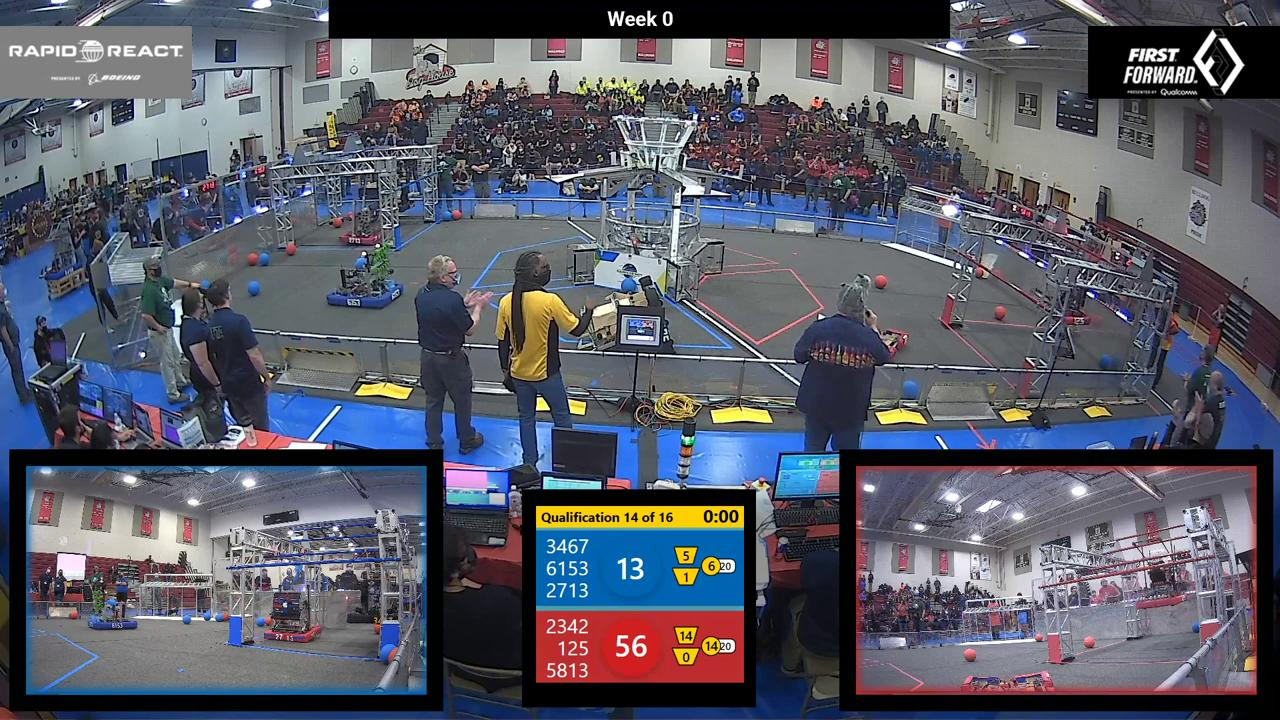robot: (324, 251, 403, 307), (263, 593, 320, 641), (839, 322, 910, 358), (86, 595, 139, 631), (1058, 289, 1097, 326), (966, 673, 1056, 689), (342, 218, 377, 242)
